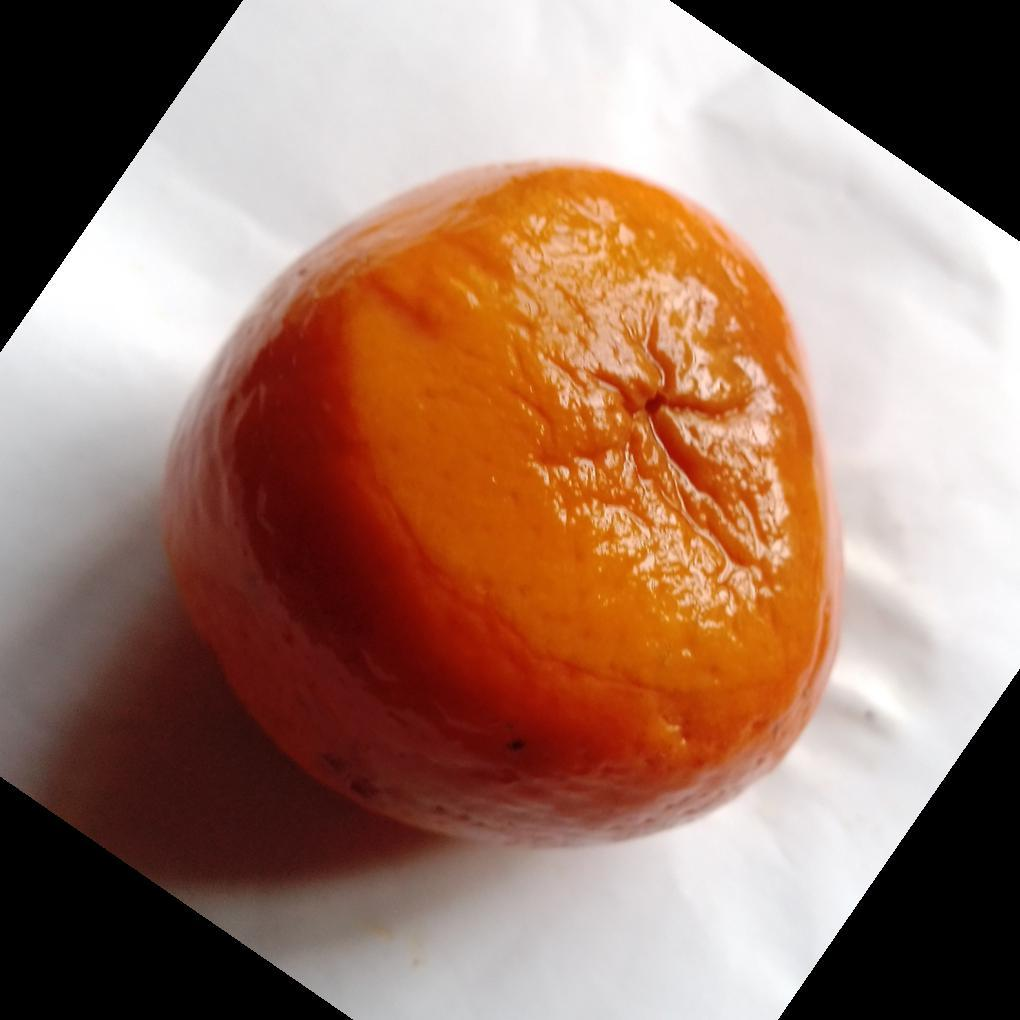FreshOrange: (157, 160, 844, 854)
